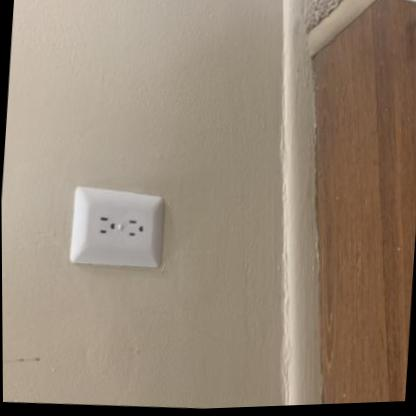OUTLET: (67, 180, 167, 274)
